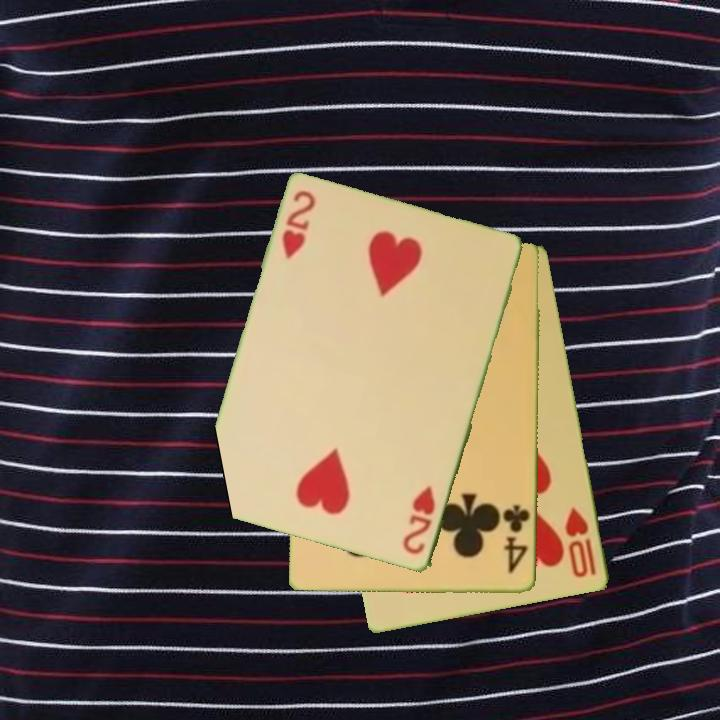10h: (562, 504, 600, 581)
2h: (278, 187, 319, 262), (399, 482, 439, 558)
4c: (499, 502, 533, 576)
